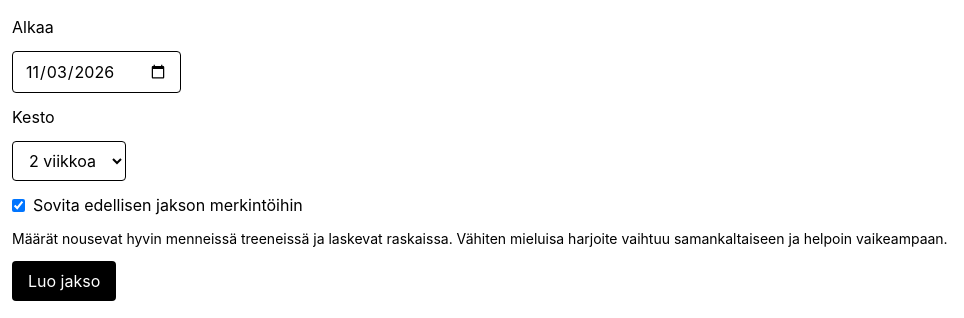
PeriodForm › shows an adapted copy's changes in place of the form, with the way to it
Click the button "Luo jakso" at coordinates (64, 281), box 12,261 -> 116,301
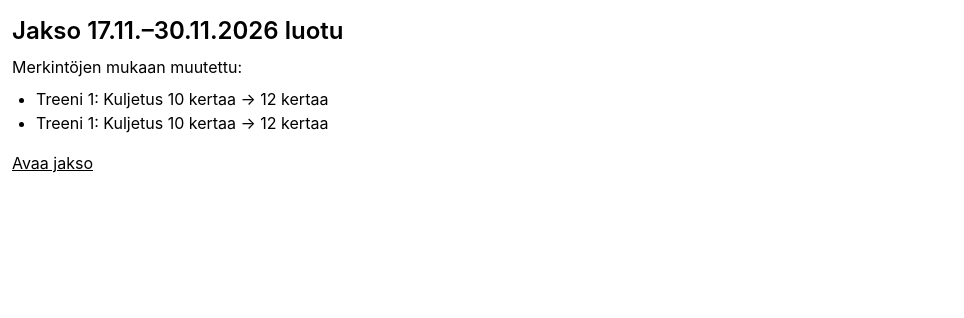
Result: the heading "Jakso 17.11.–30.11.2026 luotu" is shown at 12,16 -> 344,45
Result: the text "Merkintöjen mukaan muutettu:" is shown at 12,57 -> 242,77
Result: the list items read "Treeni 1: Kuljetus 10 kertaa → 12 kertaa", "Treeni 1: Kuljetus 10 kertaa → 12 kertaa", in this order at 36,89 -> 328,109; 36,113 -> 328,133
